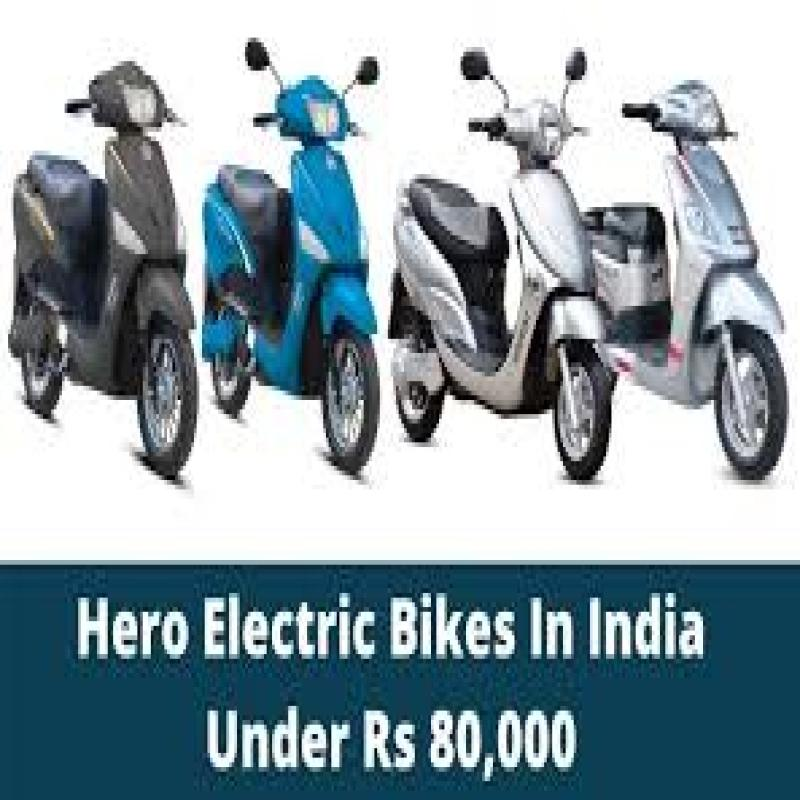bike: (388, 46, 622, 483), (572, 41, 790, 494), (203, 29, 387, 516), (12, 48, 208, 486)
